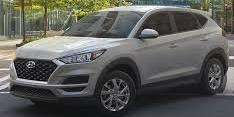SUV: (11, 7, 229, 113)
